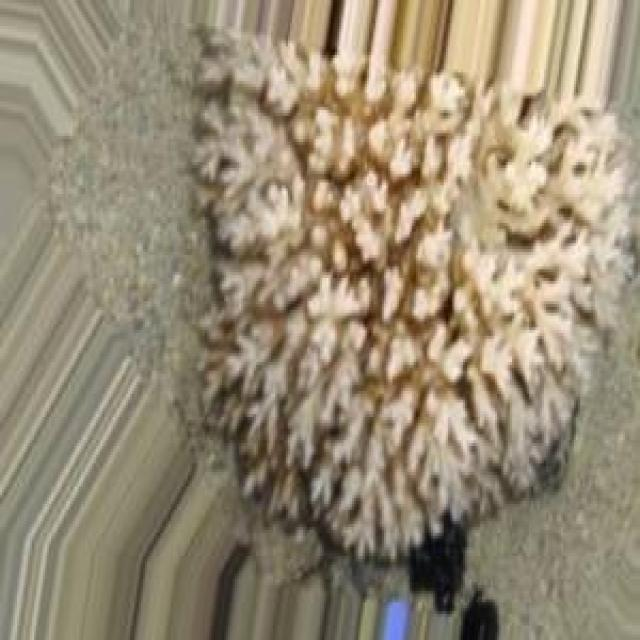Bleached: (195, 35, 624, 559)
